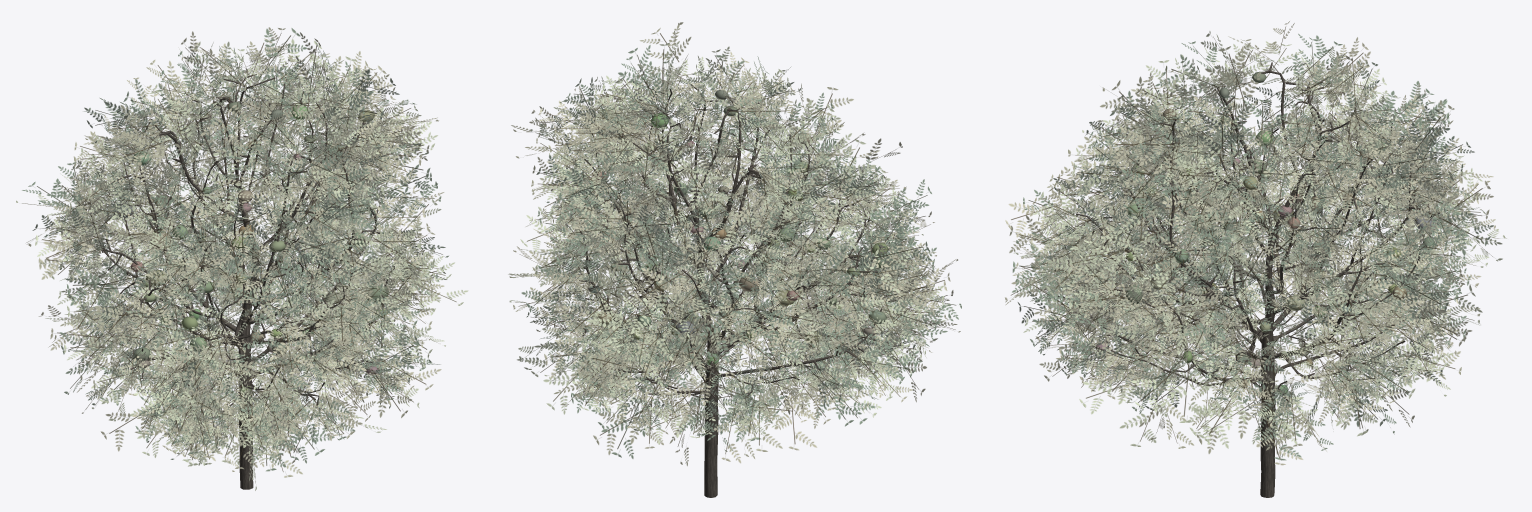
The model's file is tree_64_broadleaf.glb.
The picture shows the model from 3 angles, left to right: view 1: azimuth 30°, elevation 25°; view 2: azimuth 150°, elevation 25°; view 3: azimuth 270°, elevation 25°; orthographic projection. The views are drawn at different scales.
Visible parts, largest first — view 1: tree_64_broadleaf.leaves, tree_64_broadleaf.trunk_branches, tree_64_broadleaf.foliage_volume; view 2: tree_64_broadleaf.leaves, tree_64_broadleaf.trunk_branches, tree_64_broadleaf.foliage_volume; view 3: tree_64_broadleaf.leaves, tree_64_broadleaf.trunk_branches, tree_64_broadleaf.foliage_volume.
Part boxes in pixels (x1,y1,x2,y2): tree_64_broadleaf.leaves: (16,27,468,490); tree_64_broadleaf.trunk_branches: (84,74,394,489); tree_64_broadleaf.foliage_volume: (113,101,389,392); tree_64_broadleaf.leaves: (508,22,961,465); tree_64_broadleaf.trunk_branches: (577,84,900,497); tree_64_broadleaf.foliage_volume: (589,90,892,364); tree_64_broadleaf.leaves: (1005,21,1506,465); tree_64_broadleaf.trunk_branches: (1057,62,1439,497); tree_64_broadleaf.foliage_volume: (1096,71,1434,394).
Bounding box in the file's own units: 9.51 × 10.72 × 10.52.
Materials: 3 (2 with a texture image).
